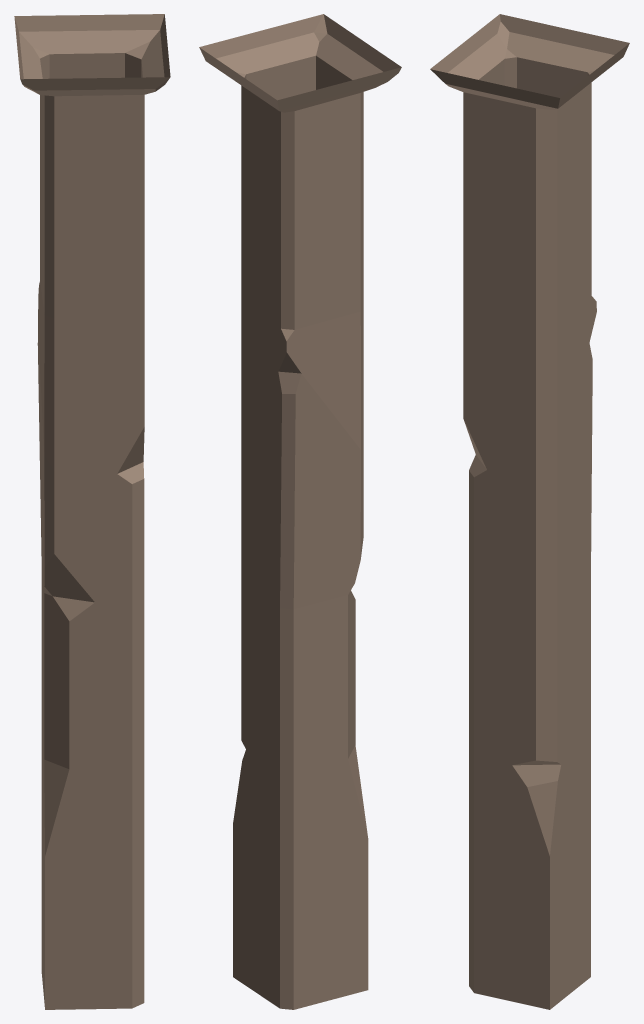
The model's file is Pillar.fbx.
3 views of the same model, side by side, from view 1: azimuth 30°, elevation 25°; view 2: azimuth 150°, elevation 25°; view 3: azimuth 270°, elevation 25° (orthographic).
Visible parts, largest first — view 1: 立方体.070; view 2: 立方体.070; view 3: 立方体.070.
Part boxes in pixels (x1,y1,x2,y2): 立方体.070: (14,14,170,1009); 立方体.070: (199,14,401,1009); 立方体.070: (430,14,629,1009).
Bounding box in the file's own units: 443 × 445 × 2274.
